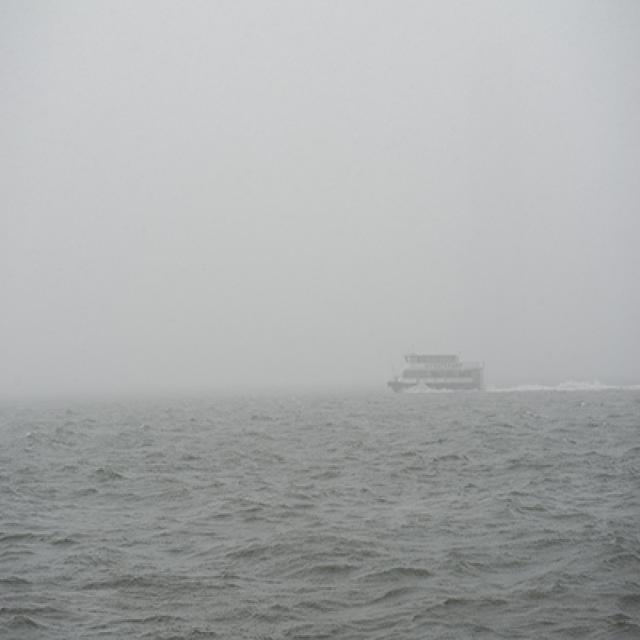cargoship: (378, 344, 493, 396)
